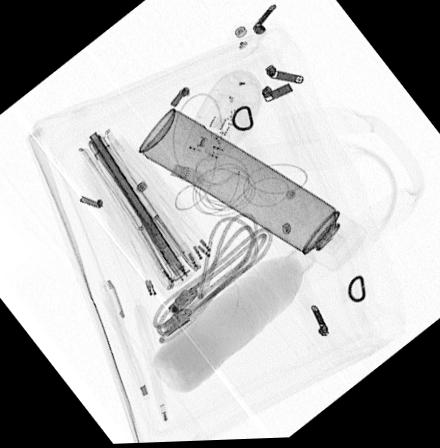Sprayer: (135, 108, 367, 276)
